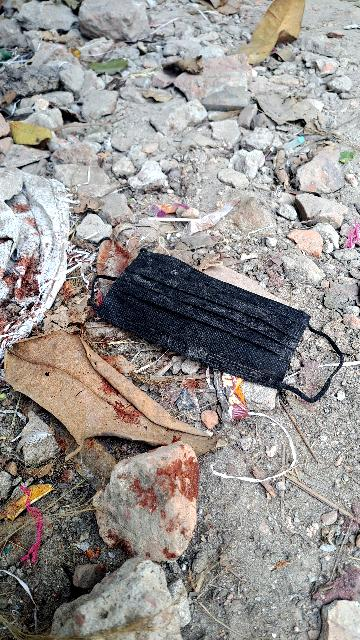mask: (78, 222, 330, 402)
